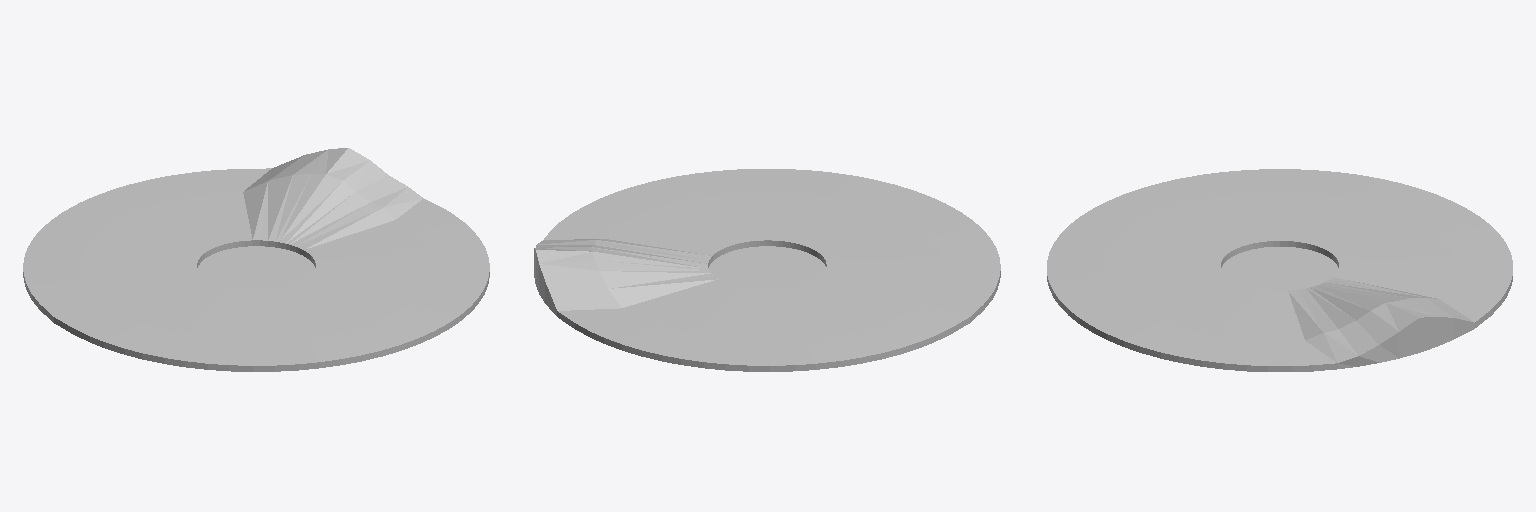
File: Boden.obj
3 renders of one model, left to right at view 1: azimuth 30°, elevation 25°; view 2: azimuth 150°, elevation 25°; view 3: azimuth 270°, elevation 25°, orthographic.
Visible parts, largest first — view 1: Zylinder.001; view 2: Zylinder.001; view 3: Zylinder.001.
Part boxes in pixels (x1,y1,x2,y2): Zylinder.001: (23,148,489,371); Zylinder.001: (534,169,1000,371); Zylinder.001: (1047,169,1512,371).
Size of the model in its own units: 11.68 by 0.9699 by 11.65.